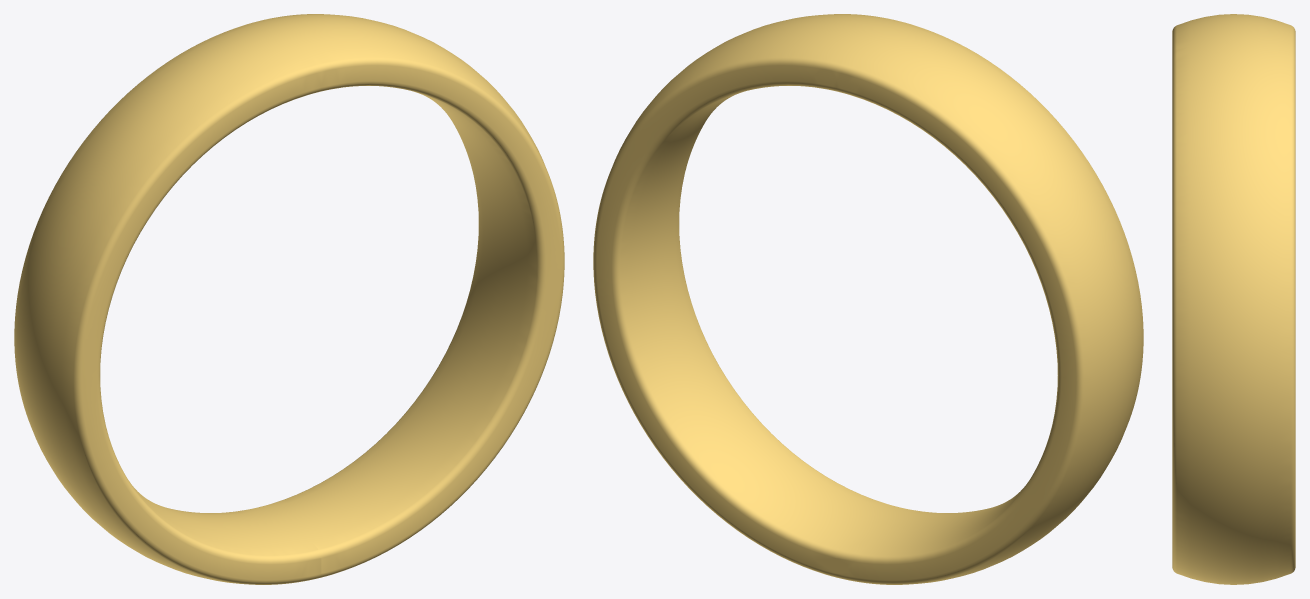
Rendered from Mike Hansen Wedding Band.glb.
The picture shows the model from 3 angles, left to right: view 1: azimuth 30°, elevation 25°; view 2: azimuth 150°, elevation 25°; view 3: azimuth 270°, elevation 25°; orthographic projection. The views are drawn at different scales.
Parts seen in each view (by area): view 1: Mike ring YG for 3d model.001; view 2: Mike ring YG for 3d model.001; view 3: Mike ring YG for 3d model.001.
Boxes of the visible parts, box(x1,y1,x2,y2) form: Mike ring YG for 3d model.001: box(14, 14, 564, 584); Mike ring YG for 3d model.001: box(593, 14, 1143, 584); Mike ring YG for 3d model.001: box(1172, 14, 1295, 584).
Size of the model in its own units: 23.61 by 23.61 by 5.1.
